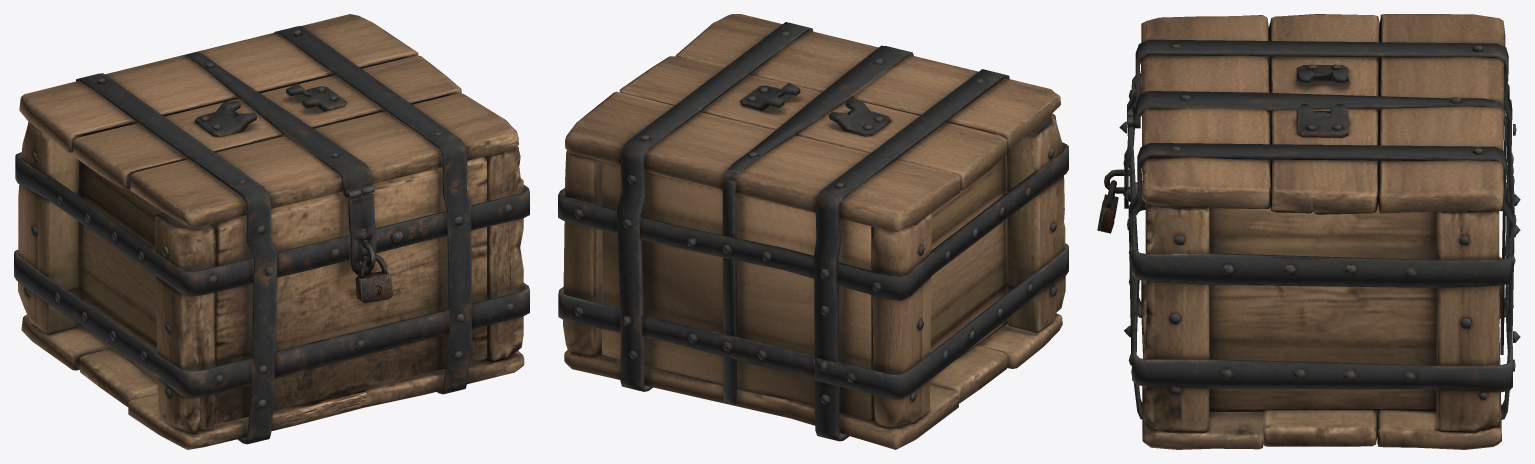
Rendered from chest.glb.
The picture shows the model from 3 angles, left to right: view 1: azimuth 30°, elevation 25°; view 2: azimuth 150°, elevation 25°; view 3: azimuth 270°, elevation 25°; orthographic projection. The views are drawn at different scales.
Visible parts, largest first — view 1: tripo_node_86cc1e28-e850-4fa7-8b27-31f3faa339b5; view 2: tripo_node_86cc1e28-e850-4fa7-8b27-31f3faa339b5; view 3: tripo_node_86cc1e28-e850-4fa7-8b27-31f3faa339b5.
Boxes of the visible parts, left/top/right/bottom form: tripo_node_86cc1e28-e850-4fa7-8b27-31f3faa339b5: left=14, top=14, right=529, bottom=449; tripo_node_86cc1e28-e850-4fa7-8b27-31f3faa339b5: left=558, top=14, right=1068, bottom=449; tripo_node_86cc1e28-e850-4fa7-8b27-31f3faa339b5: left=1097, top=14, right=1520, bottom=449.
Size of the model in its own units: 0.998 by 0.7012 by 0.9746.
1 material, 1 textured.
